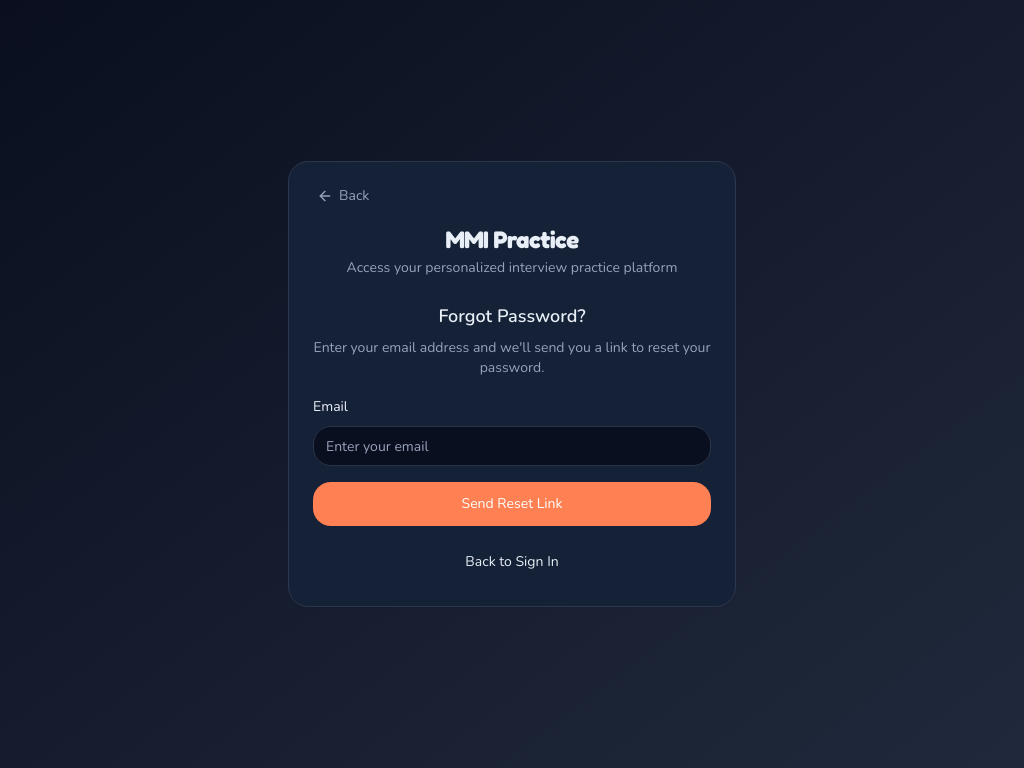
Scenario: Forgot-password email form › keeps the address and form when delivery is rejected
Type "qa@example.test" into the field with id "reset-email". click: [512, 446]
box: top-left (313, 426), bottom-right (711, 466)
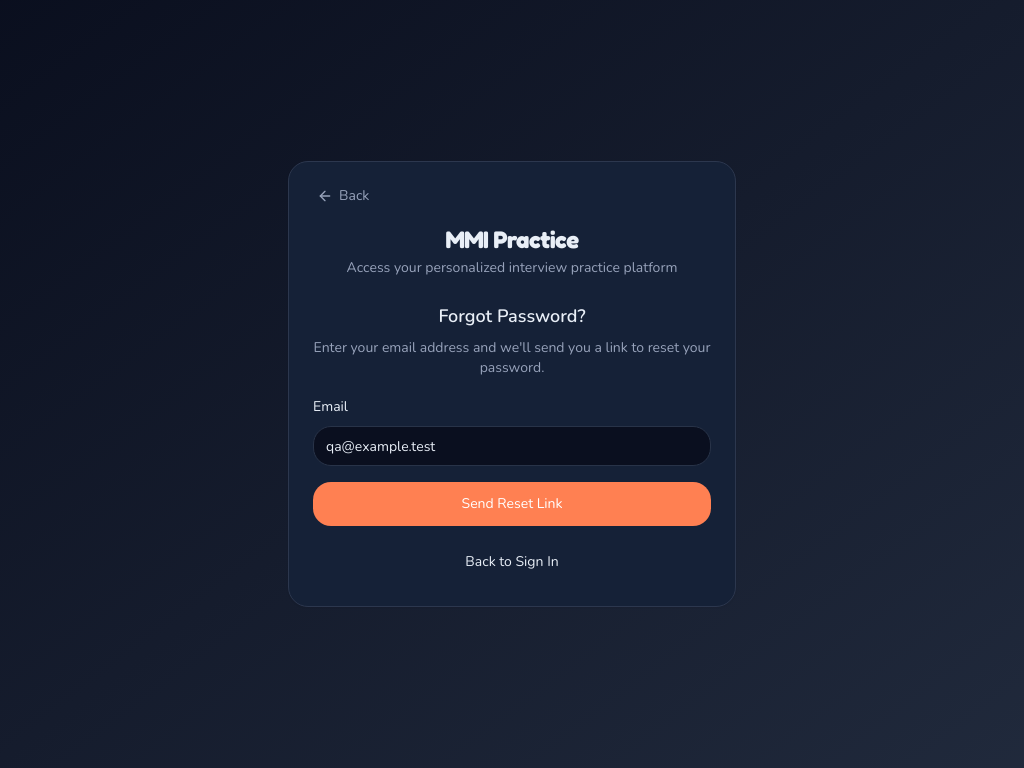
Submit the form, box top-left (313, 394), bottom-right (711, 526)
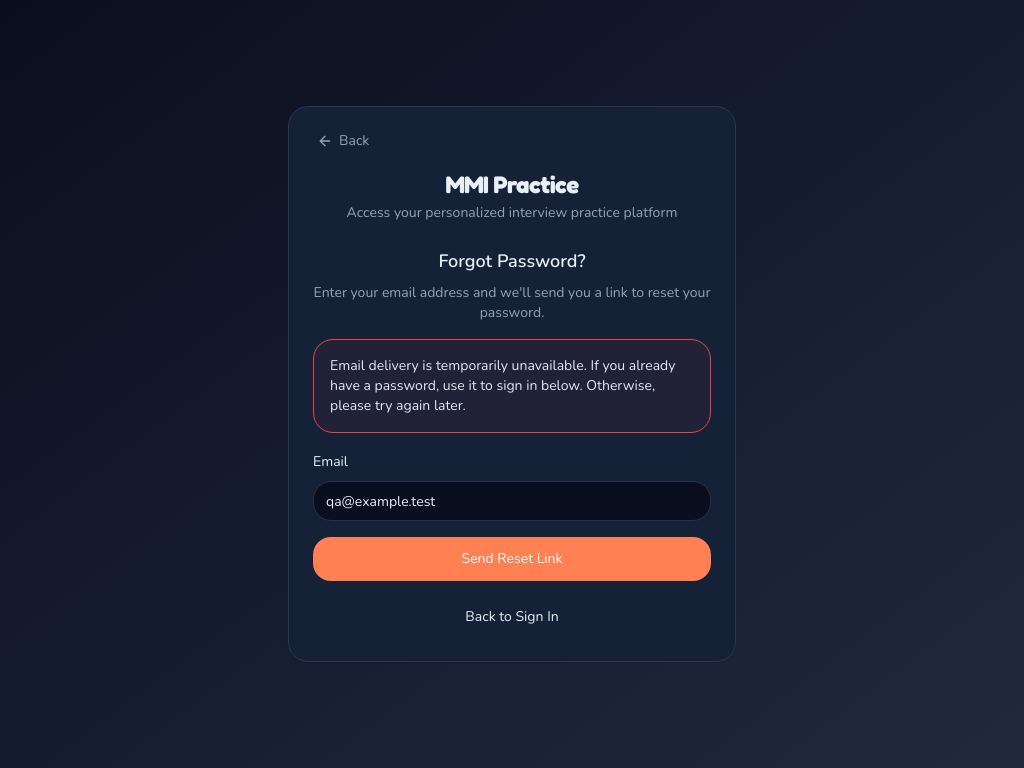
Check: the text "Email delivery is temporarily unavailable" is shown, box top-left (330, 356), bottom-right (676, 415)
